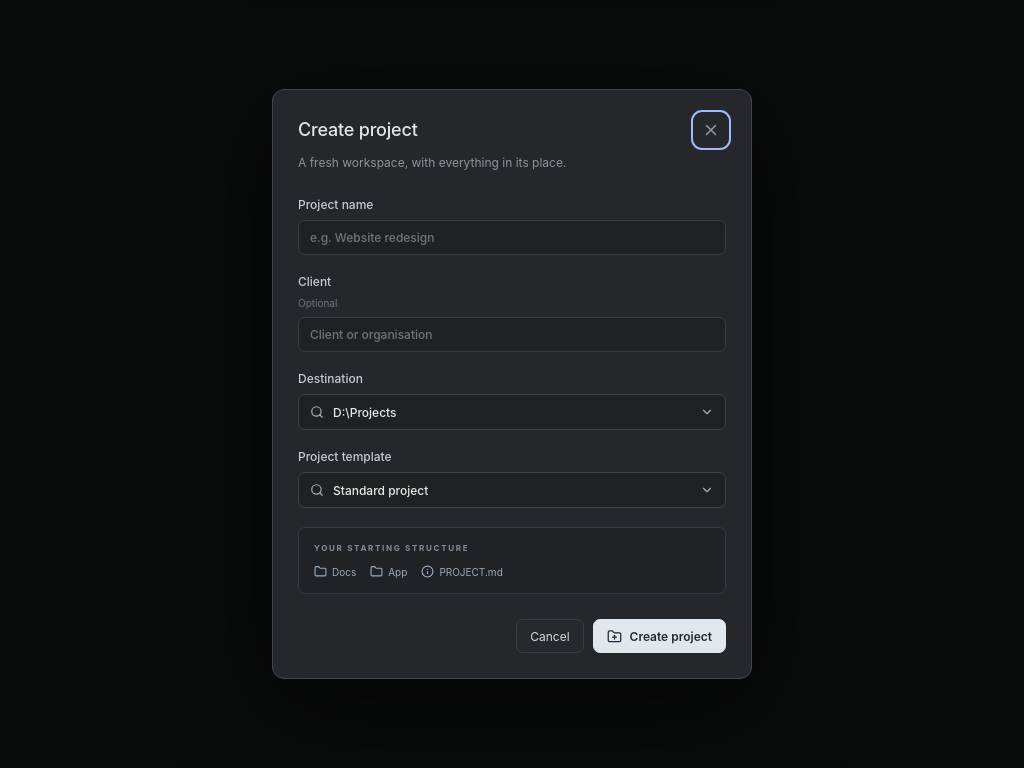
Test: project dialogs › does not submit a traversal path and shows a useful error
Type "../outside" into the field labelled "Project name".
click(512, 238); type("../outside")  # box [298,220,726,255]
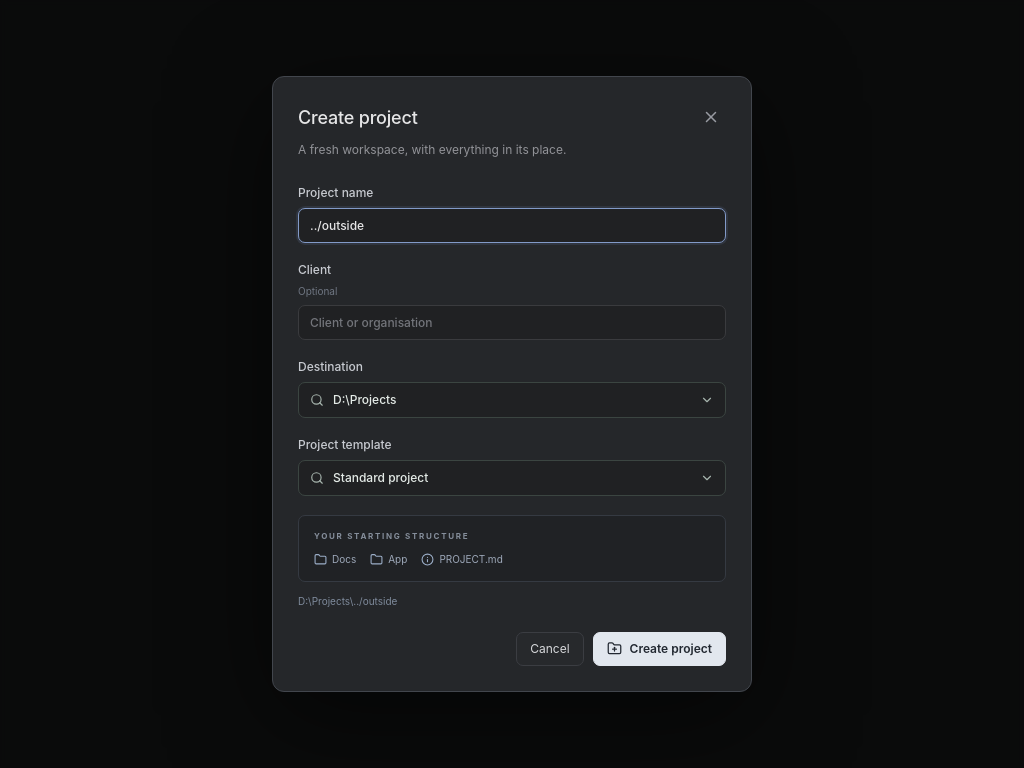
Click the button "Create project".
click(659, 649)  # box [592,632,726,666]
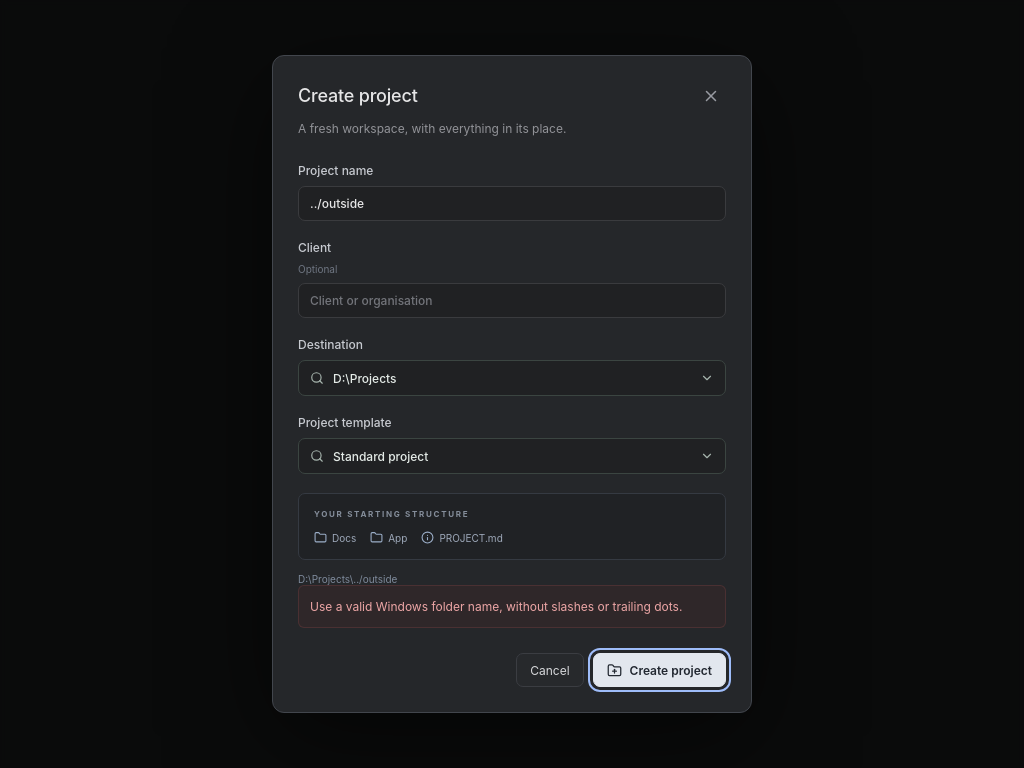
Now the message shows "valid Windows", box [310,599,682,614]
